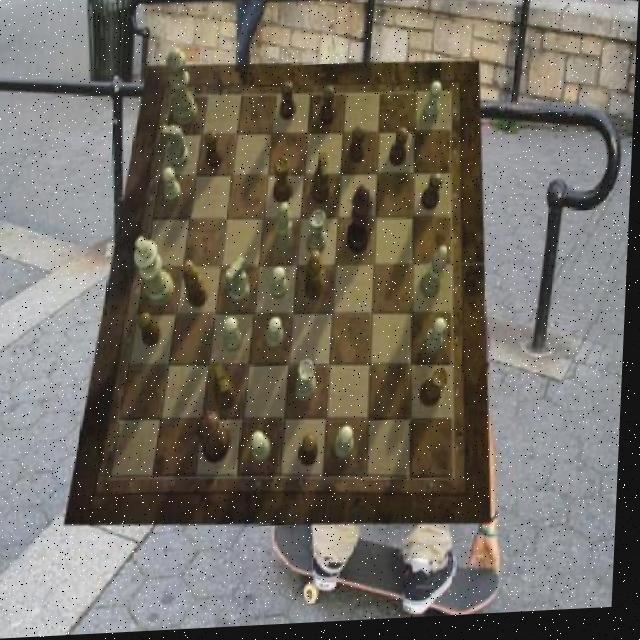bishop: (183, 263, 212, 312), (306, 254, 328, 306)
black-bishop: (349, 187, 376, 257)
black-king: (216, 366, 241, 413), (312, 155, 333, 209)
black-knight: (140, 313, 164, 350), (391, 132, 410, 172), (205, 132, 224, 172), (423, 179, 444, 215), (321, 89, 338, 130), (349, 130, 367, 168), (281, 84, 298, 124), (303, 437, 323, 470)
black-pawn: (197, 411, 235, 467)
black-queen: (424, 372, 453, 411), (274, 160, 295, 207)
black-rook: (422, 252, 451, 304), (275, 206, 297, 259)
white-bishop: (134, 237, 178, 311)
white-king: (162, 124, 191, 171), (228, 259, 254, 307)
white-knight: (427, 323, 450, 358), (164, 169, 184, 208), (424, 86, 443, 127), (226, 319, 245, 356), (338, 429, 358, 464), (254, 433, 275, 466), (273, 269, 291, 304), (268, 320, 287, 353)
white-pawn: (164, 49, 200, 128)
white-queen: (307, 214, 329, 260), (298, 362, 321, 405)
